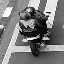motor: (17, 6, 50, 55)
